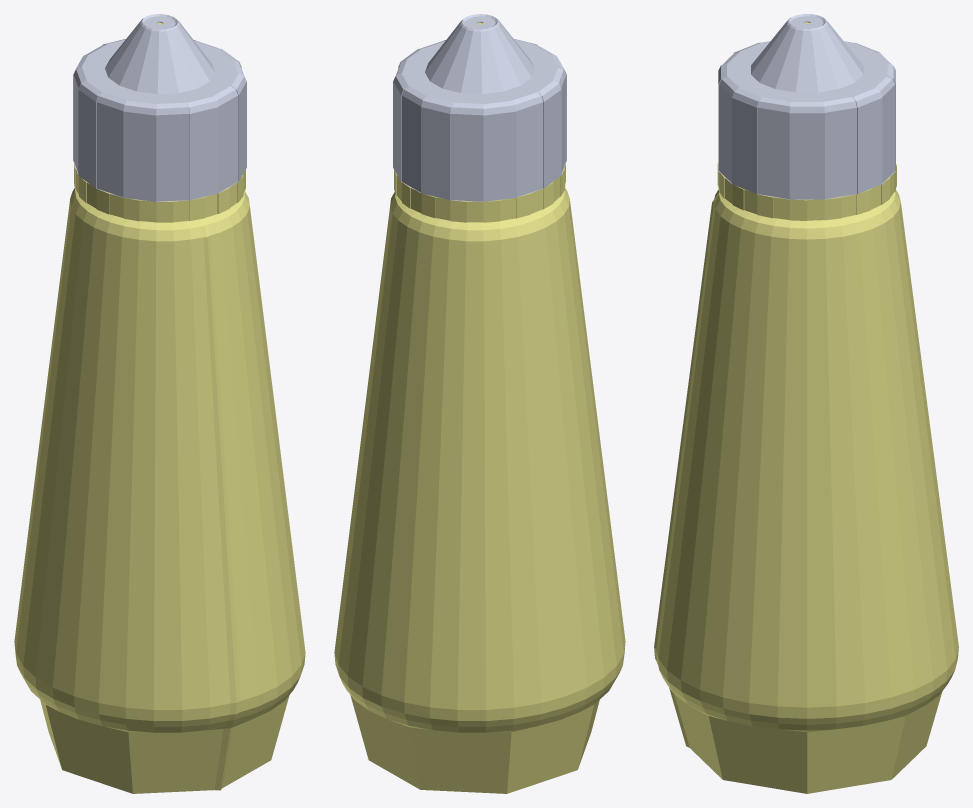
Rendered from Dispensador Test.fbx.
3 renders of one model, left to right at view 1: azimuth 30°, elevation 25°; view 2: azimuth 150°, elevation 25°; view 3: azimuth 270°, elevation 25°, orthographic.
Visible parts, largest first — view 1: Shape_IndexedFaceSet, Shape_IndexedFaceSet.001; view 2: Shape_IndexedFaceSet, Shape_IndexedFaceSet.001; view 3: Shape_IndexedFaceSet, Shape_IndexedFaceSet.001.
Boxes of the visible parts, left/top/right/bottom form: Shape_IndexedFaceSet: left=14, top=22, right=305, bottom=793; Shape_IndexedFaceSet.001: left=73, top=14, right=246, bottom=201; Shape_IndexedFaceSet: left=334, top=22, right=625, bottom=793; Shape_IndexedFaceSet.001: left=393, top=14, right=566, bottom=201; Shape_IndexedFaceSet: left=654, top=22, right=958, bottom=793; Shape_IndexedFaceSet.001: left=718, top=14, right=895, bottom=199.
Bounding box in the file's own units: 6.74 × 18.75 × 7.14.
